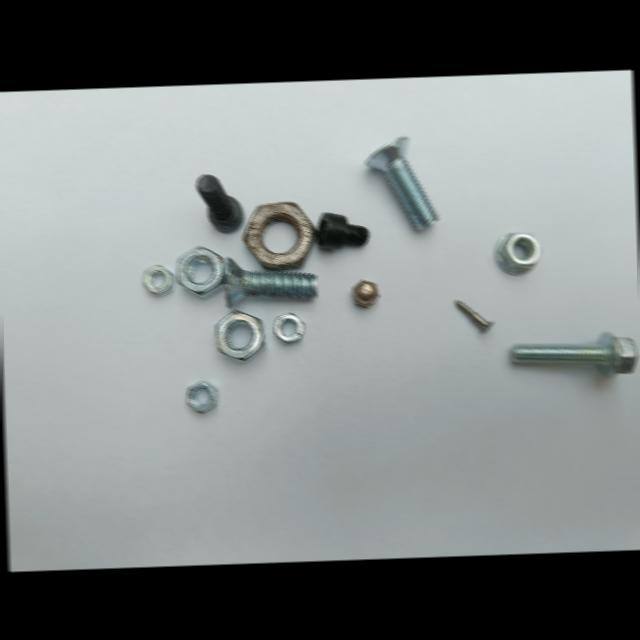bolt: (364, 136, 438, 229), (510, 331, 637, 377), (221, 256, 317, 307), (195, 174, 243, 232), (315, 212, 369, 248), (454, 299, 493, 332)
nuts: (242, 202, 317, 270), (214, 310, 265, 361), (176, 246, 226, 298), (493, 232, 540, 275), (186, 380, 218, 412), (142, 265, 174, 295), (273, 312, 303, 343), (350, 279, 378, 307)
